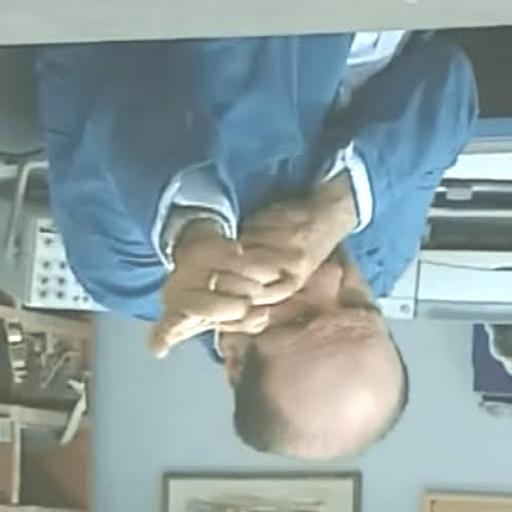beji_matrix: (220, 256, 408, 457)
